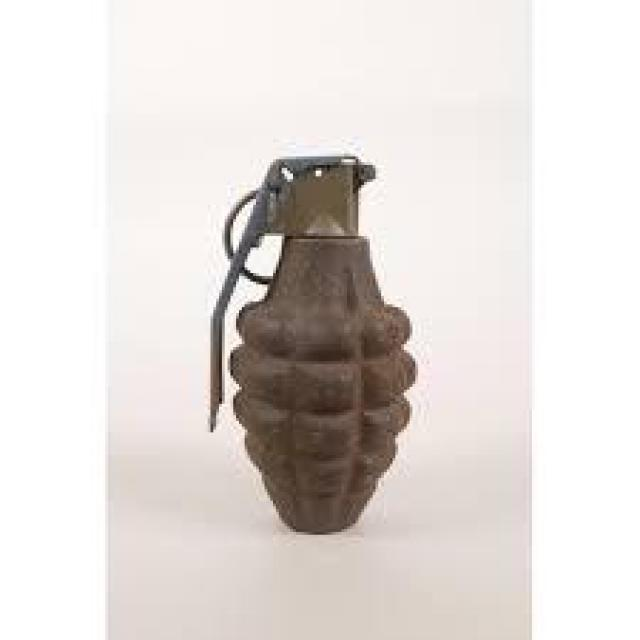grenade: (198, 130, 426, 530)
